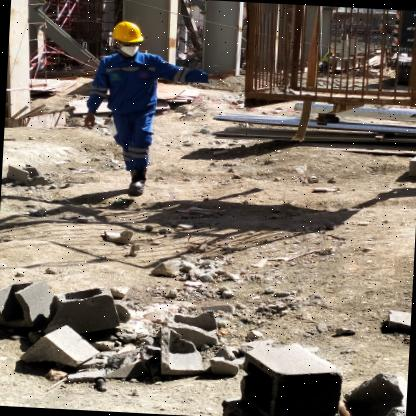bota: (122, 168, 150, 196)
